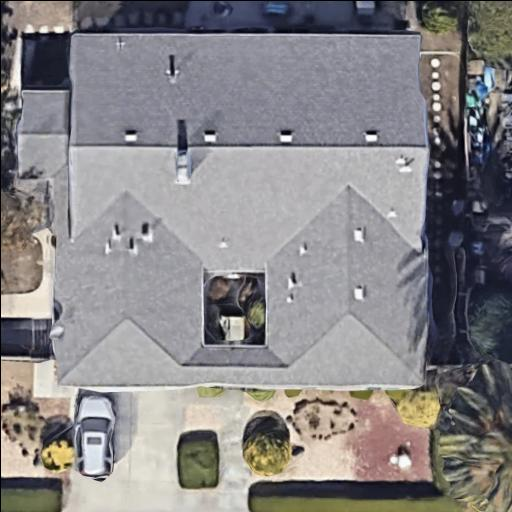Slope-Roof: (17, 33, 426, 387)
